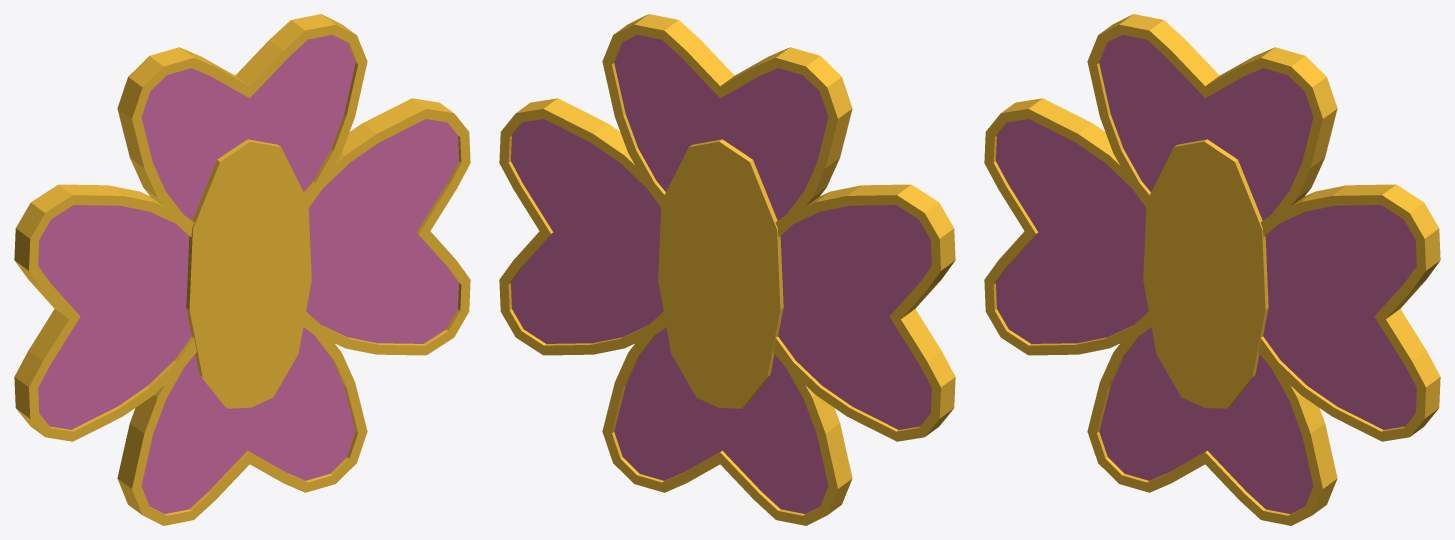
File: guard_love.glb
The picture shows the model from 3 angles, left to right: view 1: azimuth 30°, elevation 25°; view 2: azimuth 150°, elevation 25°; view 3: azimuth 330°, elevation 25°; orthographic projection.
Visible parts, largest first — view 1: Guard.003; view 2: Guard.003; view 3: Guard.003.
Part boxes in pixels (x1,y1,x2,y2): Guard.003: (14, 14, 470, 525); Guard.003: (499, 14, 955, 525); Guard.003: (984, 14, 1440, 525).
Bounding box in the file's own units: 0.1153 × 0.1153 × 0.0074.
